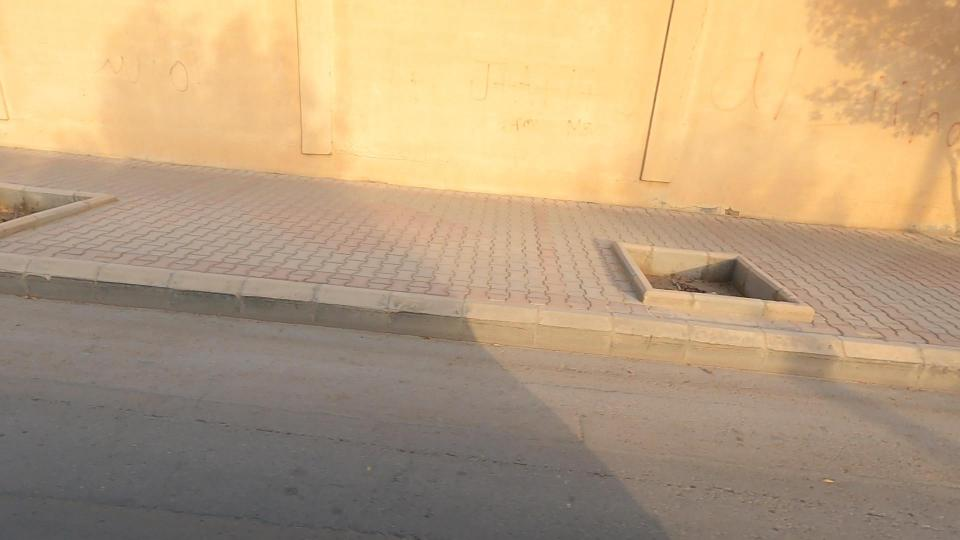CLUTTER_SIDEWALK: (544, 189, 876, 370)
